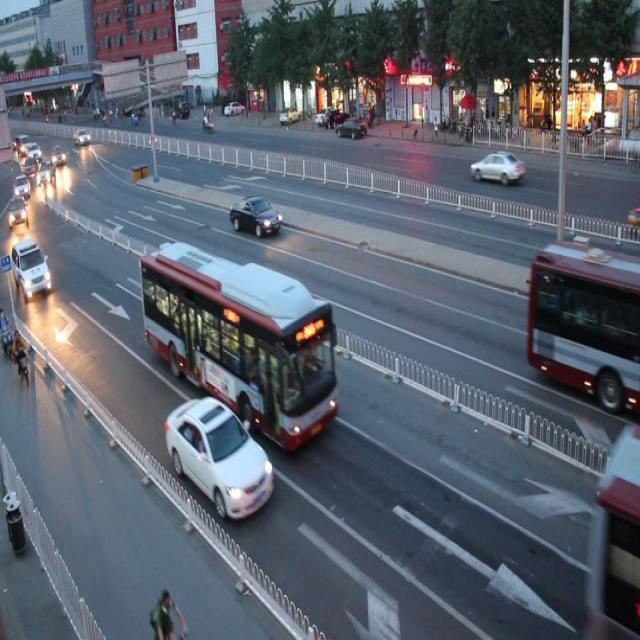BigCar: (138, 244, 341, 446), (526, 213, 640, 426)
car: (154, 399, 276, 527), (9, 235, 55, 308), (227, 191, 284, 239), (469, 147, 531, 188), (7, 196, 30, 234), (336, 116, 371, 140), (72, 128, 94, 148), (222, 102, 246, 120)
